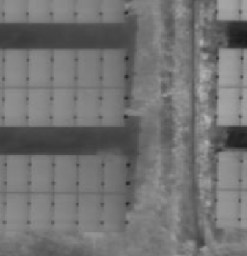solar: (1, 47, 31, 89), (25, 47, 55, 89), (49, 47, 79, 89), (74, 47, 104, 89), (98, 47, 128, 89), (98, 84, 128, 126), (72, 84, 102, 126), (48, 84, 78, 126), (23, 85, 53, 127), (3, 152, 33, 194), (26, 152, 56, 194), (50, 152, 80, 194), (76, 152, 106, 194), (101, 152, 131, 194), (99, 189, 129, 231), (75, 189, 105, 231), (50, 189, 80, 231), (27, 189, 57, 231), (2, 188, 32, 230), (215, 46, 245, 88), (214, 85, 244, 127), (214, 148, 244, 190), (213, 187, 243, 229), (1, 86, 30, 128)
